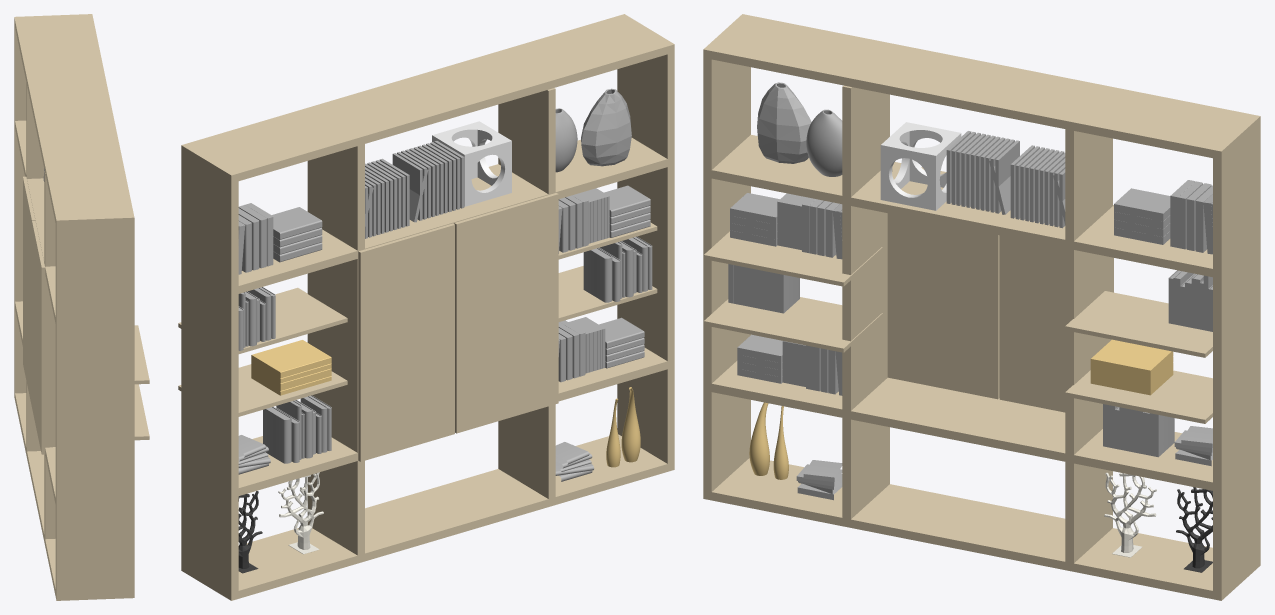
Rendered from biblioteca1.glb.
3 renders of one model, left to right at view 1: azimuth 30°, elevation 25°; view 2: azimuth 150°, elevation 25°; view 3: azimuth 270°, elevation 25°, orthographic. The views are drawn at different scales.
Visible parts, largest first — view 1: Rectangle48, Rectangle54, Rectangle55; view 2: Rectangle48, books_obj_58, Box01_2, Rectangle12, Rectangle52, Rectangle55, Circle230, Box402, books_obj_101, books_obj_11, books_obj_70, books_obj_47 (+9 smaller); view 3: Rectangle48, Rectangle12, Rectangle55, Rectangle52, Rectangle54, books_obj_58, Box01_2, Circle200, Box01_1, Box402, Box03, books_obj_46 (+9 smaller).
Part boxes in pixels (left/top/right/bottom): Rectangle48: left=14, top=14, right=134, bottom=600; Rectangle54: left=134, top=325, right=149, bottom=384; Rectangle55: left=134, top=384, right=149, bottom=440; Rectangle48: left=181, top=14, right=674, bottom=600; books_obj_58: left=251, top=340, right=331, bottom=395; Box01_2: left=581, top=88, right=631, bottom=166; Rectangle12: left=178, top=287, right=347, bottom=353; Rectangle52: left=178, top=364, right=347, bottom=416; Rectangle55: left=558, top=266, right=657, bottom=321; Circle230: left=464, top=140, right=511, bottom=206; Box402: left=278, top=472, right=323, bottom=549; books_obj_101: left=583, top=248, right=612, bottom=302; books_obj_11: left=263, top=406, right=291, bottom=463; books_obj_70: left=578, top=188, right=609, bottom=243; books_obj_47: left=568, top=317, right=605, bottom=373; Rectangle48: left=703, top=14, right=1260, bottom=600; Rectangle12: left=1065, top=291, right=1212, bottom=357; Rectangle55: left=703, top=297, right=882, bottom=352; Rectangle52: left=1065, top=370, right=1212, bottom=423; Rectangle54: left=703, top=231, right=882, bottom=286; books_obj_58: left=1090, top=339, right=1173, bottom=395; Box01_2: left=757, top=82, right=811, bottom=163; Circle200: left=880, top=143, right=935, bottom=210; Box01_1: left=806, top=109, right=842, bottom=176; Box402: left=1104, top=472, right=1156, bottom=552; Box03: left=1176, top=487, right=1212, bottom=568; books_obj_46: left=1114, top=188, right=1170, bottom=221.
Bounding box in the file's own units: 57.61 × 84.38 × 94.82.
